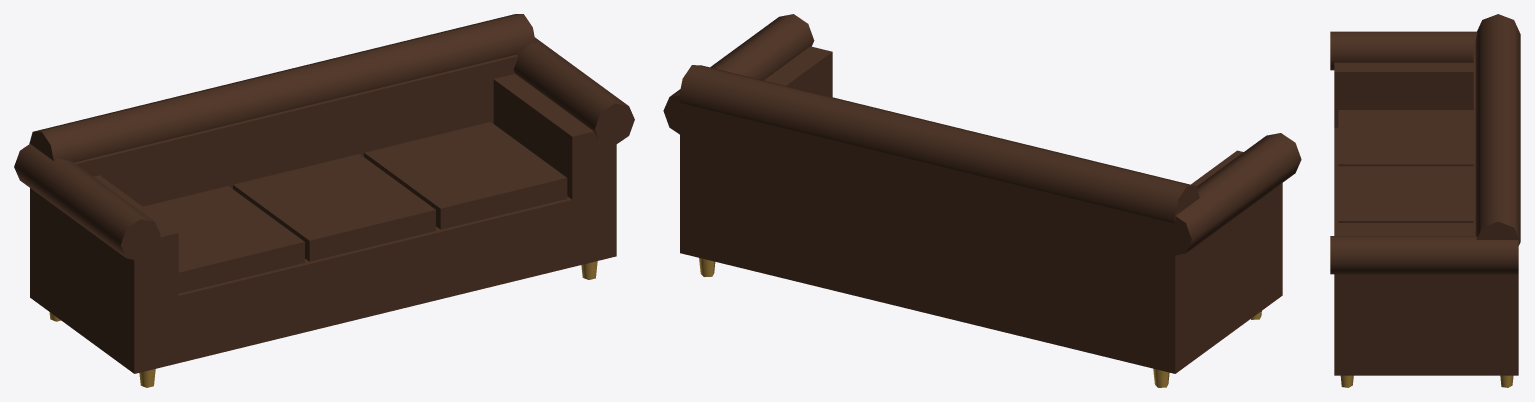
Rendered from chesterfield.glb.
The picture shows the model from 3 angles, left to right: view 1: azimuth 30°, elevation 25°; view 2: azimuth 150°, elevation 25°; view 3: azimuth 270°, elevation 25°; orthographic projection. The views are drawn at different scales.
Parts seen in each view (by area): view 1: chesterfield; view 2: chesterfield; view 3: chesterfield.
Part boxes in pixels (x1=…): chesterfield: x1=14, y1=14, x2=634, y2=387; chesterfield: x1=663, y1=14, x2=1301, y2=387; chesterfield: x1=1330, y1=14, x2=1520, y2=387.
Bounding box in the file's own units: 2.56 × 0.93 × 0.93.
Materials: 1 (1 with a texture image).
